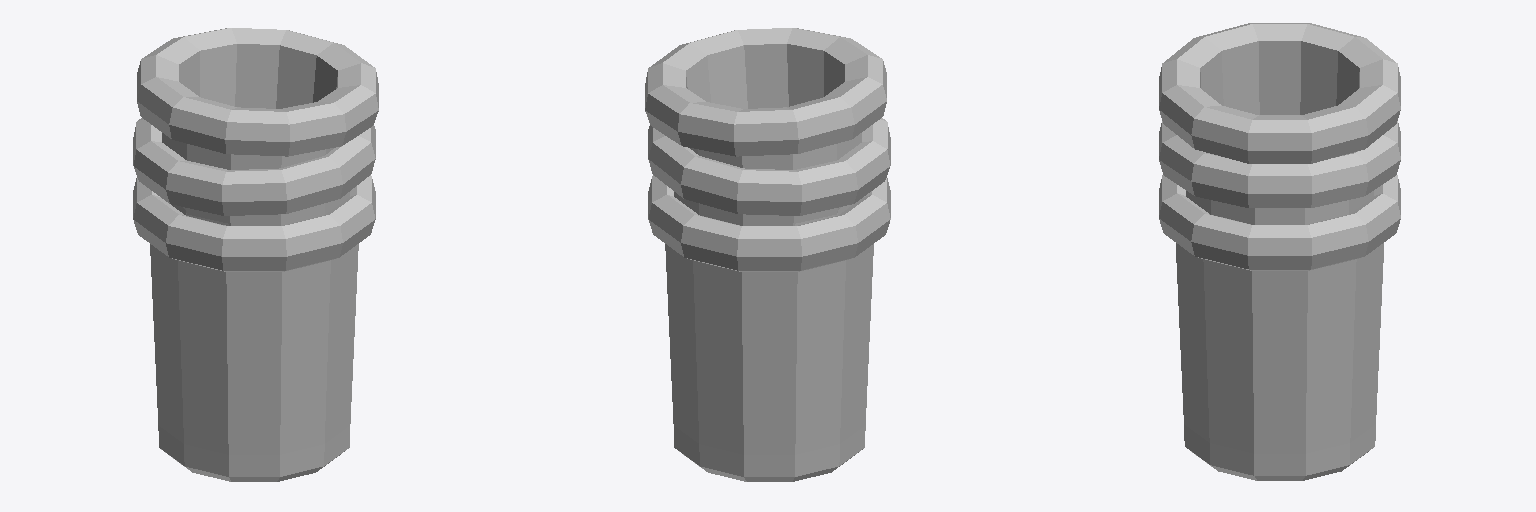
The model's file is coffee_cup_takeaway_stacked.obj.
3 views of the same model, side by side, from view 1: azimuth 30°, elevation 25°; view 2: azimuth 150°, elevation 25°; view 3: azimuth 270°, elevation 25° (orthographic).
Parts seen in each view (by area): view 1: coffee_cup_takeaway_stacked; view 2: coffee_cup_takeaway_stacked; view 3: coffee_cup_takeaway_stacked.
Part boxes in pixels (x1,y1,x2,y2): coffee_cup_takeaway_stacked: (133,28,378,481); coffee_cup_takeaway_stacked: (645,28,890,481); coffee_cup_takeaway_stacked: (1159,23,1400,480).
Size of the model in its own units: 0.3471 by 0.5915 by 0.3419.